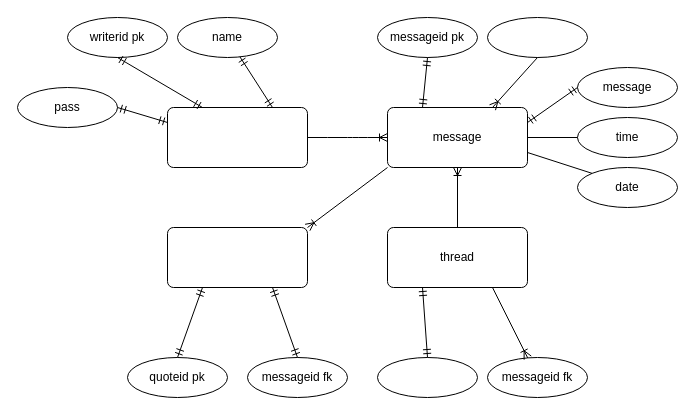
Some shapes in this 695 by 415 pixel diagram are drawn without their labels. Here are the shapes that lost their labels. From the top down, the box of each, then its label:
(486, 16, 588, 58): writerid fk
(166, 106, 308, 168): writer
(166, 226, 308, 288): quote
(376, 356, 478, 398): threadid pk
